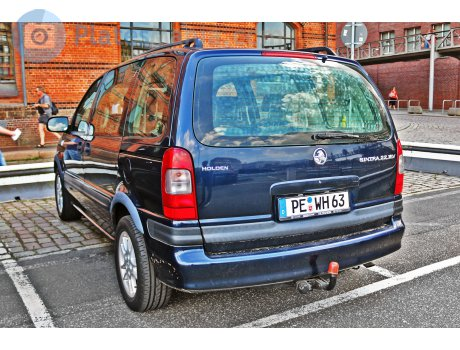License Plates: (287, 194, 352, 207)
